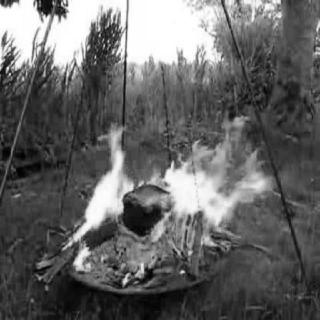Fire: (58, 72, 274, 286)
